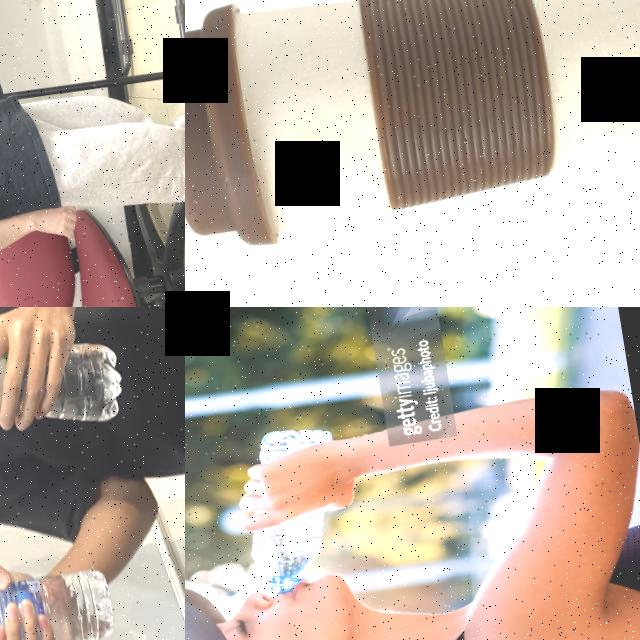bottle: (228, 418, 359, 598), (0, 313, 127, 452), (0, 563, 116, 640)
cup: (185, 0, 640, 260)
